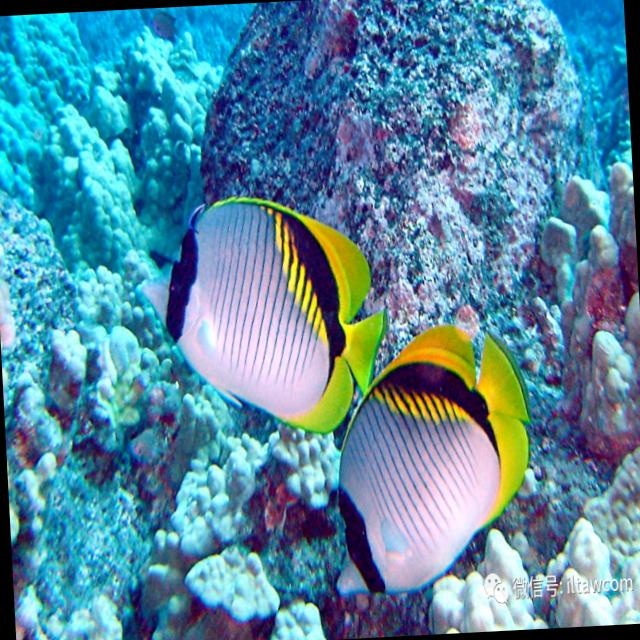ButterflyFish: (130, 187, 389, 444), (322, 313, 542, 602)
